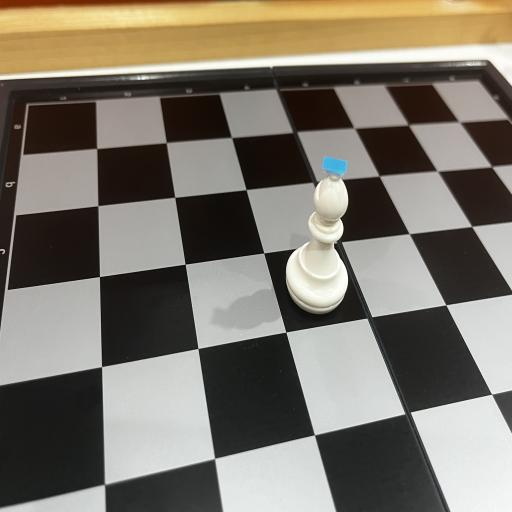White bishop: (286, 157, 348, 314)
